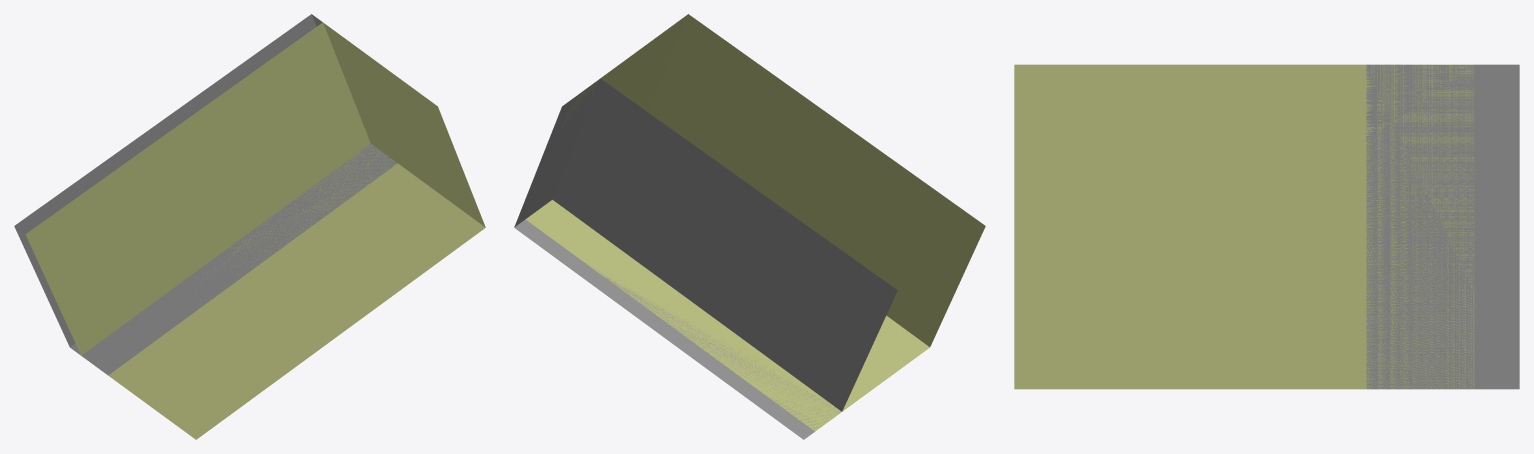
3 renders of one model, left to right at view 1: azimuth 30°, elevation 25°; view 2: azimuth 150°, elevation 25°; view 3: azimuth 270°, elevation 25°, orthographic. The views are drawn at different scales.
Parts seen in each view (by area): view 1: 0_1_2_0_3_0_3_2_2_1; view 2: 0_1_2_0_3_0_3_2_2_1; view 3: 0_1_2_0_3_0_3_2_2_1.
Boxes of the visible parts, left/top/right/bottom form: 0_1_2_0_3_0_3_2_2_1: left=14, top=14, right=485, bottom=439; 0_1_2_0_3_0_3_2_2_1: left=514, top=14, right=985, bottom=439; 0_1_2_0_3_0_3_2_2_1: left=1014, top=64, right=1519, bottom=389.
Bounding box in the file's own units: 15.61 × 11.86 × 9.89.
